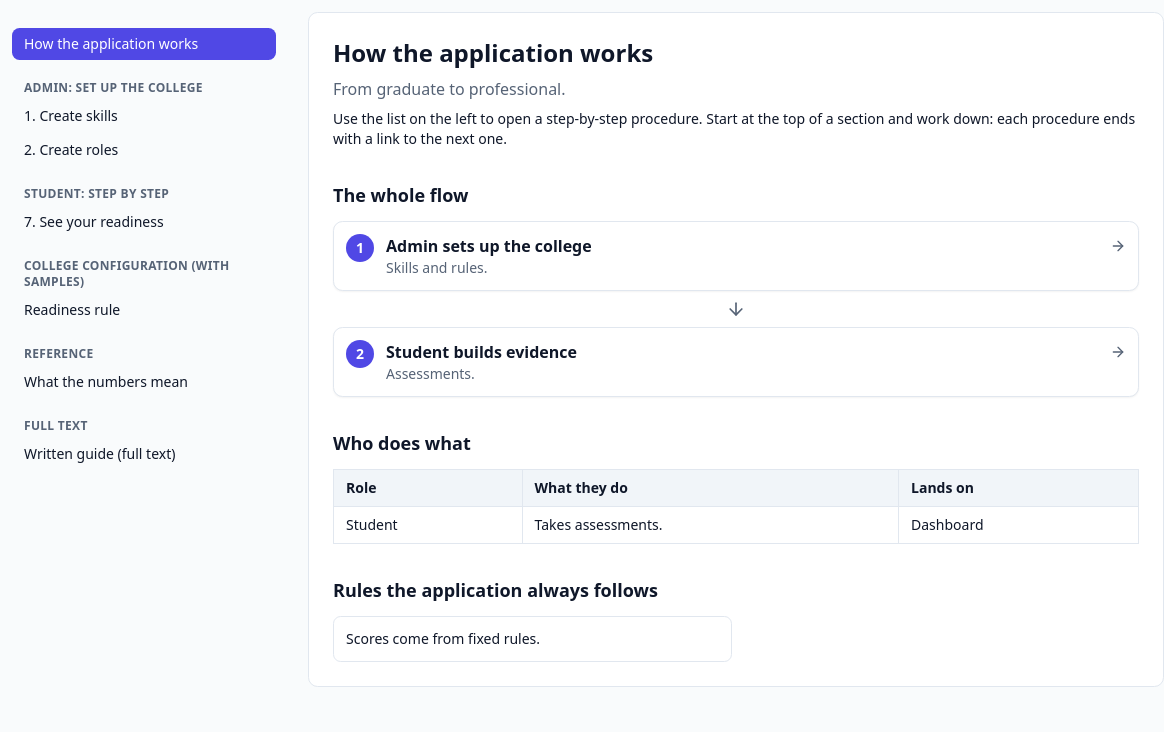
GuidePage (left sidebar, step-by-step) › jumps to a procedure from the overview flow
This screenshot has width=1164, height=732.
Click the button "2 Student builds evidence Assessments.": (482, 352) [333,327,1139,397]
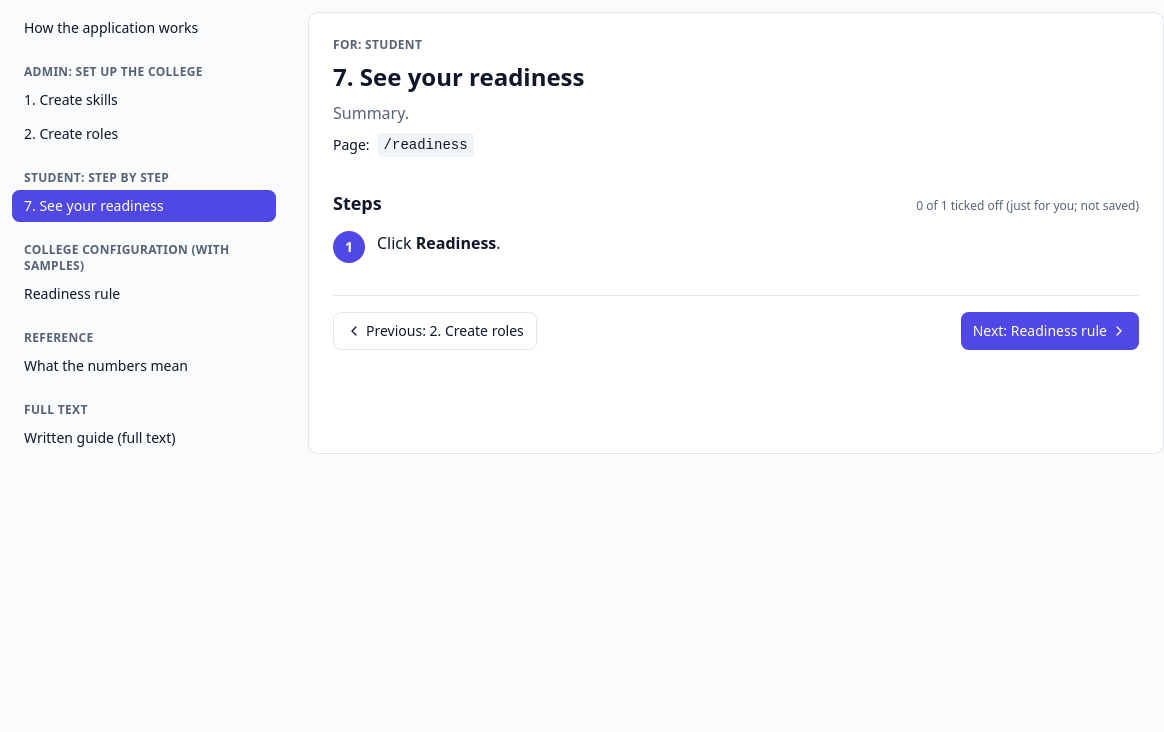
Expected: the heading "7. See your readiness" is shown, [333,60,584,93]
